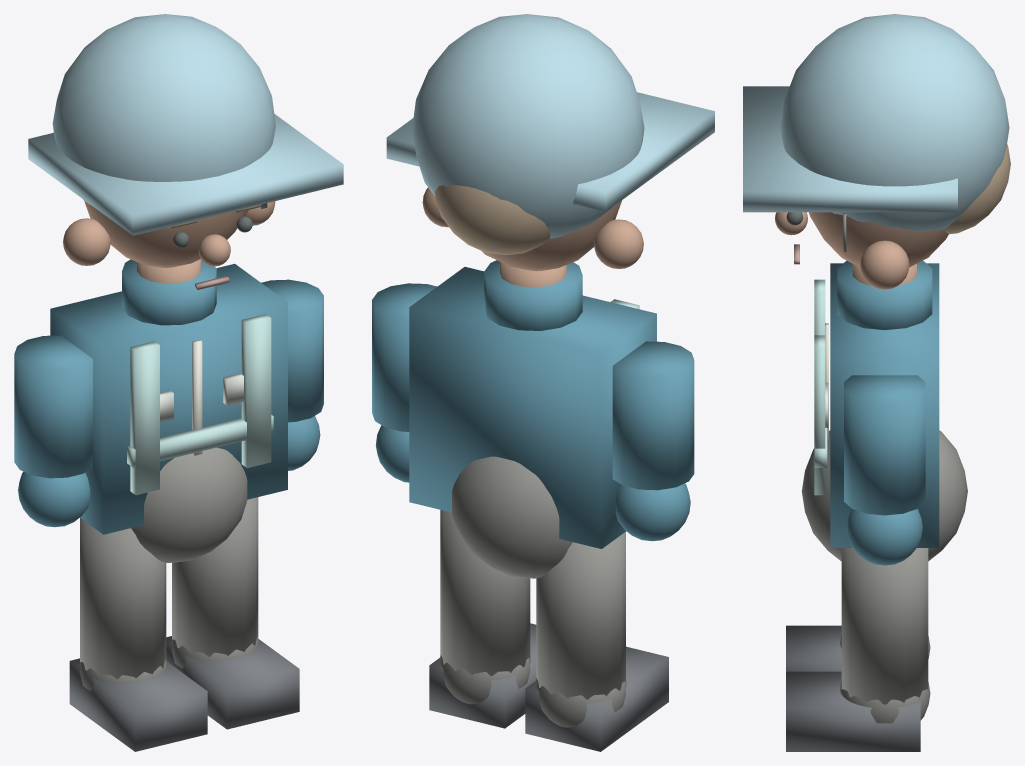
File: mercy_person_08.glb
3 renders of one model, left to right at view 1: azimuth 30°, elevation 25°; view 2: azimuth 150°, elevation 25°; view 3: azimuth 270°, elevation 25°, orthographic. The views are drawn at different scales.
Visible parts, largest first — view 1: SkinClothing_9, SkinClothing_0, Arm_Left, Leg_Left, SkinClothing_5, Leg_Right, SkinClothing_1, Boot_Left, SkinClothing_2, Boot_Right, Arm_Right, SkinClothing_4 (+1 smaller); view 2: SkinClothing_0, SkinClothing_9, Arm_Left, Leg_Left, Leg_Right, SkinClothing_1, Arm_Right, Boot_Left, SkinClothing_2, SkinClothing_7, Boot_Right; view 3: SkinClothing_9, SkinClothing_0, Arm_Right, Leg_Right, Boot_Right, SkinClothing_2, SkinClothing_1, SkinClothing_5, Boot_Left, SkinClothing_7.
Part boxes in pixels (<box>): SkinClothing_9: <box>28,14,343,235</box>; SkinClothing_0: <box>50,259,287,534</box>; Arm_Left: <box>14,335,92,527</box>; Leg_Left: <box>79,518,166,691</box>; SkinClothing_5: <box>127,314,273,495</box>; Leg_Right: <box>171,497,258,668</box>; SkinClothing_1: <box>131,447,247,562</box>; Boot_Left: <box>69,658,207,751</box>; SkinClothing_2: <box>63,201,275,283</box>; Boot_Right: <box>166,636,299,729</box>; Arm_Right: <box>261,279,323,470</box>; SkinClothing_4: <box>160,373,243,421</box>; SkinClothing_0: <box>409,260,656,548</box>; SkinClothing_9: <box>386,14,714,238</box>; Arm_Left: <box>612,341,694,541</box>; Leg_Left: <box>535,532,626,727</box>; Leg_Right: <box>439,510,530,704</box>; SkinClothing_1: <box>452,456,572,578</box>; Arm_Right: <box>372,283,437,482</box>; Boot_Left: <box>525,646,668,751</box>; SkinClothing_2: <box>422,187,643,287</box>; SkinClothing_7: <box>434,185,550,254</box>; Boot_Right: <box>429,623,536,728</box>; SkinClothing_9: <box>743,14,1009,230</box>; SkinClothing_0: <box>830,260,939,547</box>; Arm_Right: <box>844,375,925,565</box>; Leg_Right: <box>840,548,930,723</box>; Boot_Right: <box>786,671,920,751</box>; SkinClothing_2: <box>775,212,948,289</box>; SkinClothing_1: <box>801,430,967,561</box>; SkinClothing_5: <box>814,279,827,495</box>; Boot_Left: <box>786,625,841,671</box>; SkinClothing_7: <box>944,144,1010,234</box>.
Bounding box in the file's own units: 1.2 × 2.58 × 0.909.
